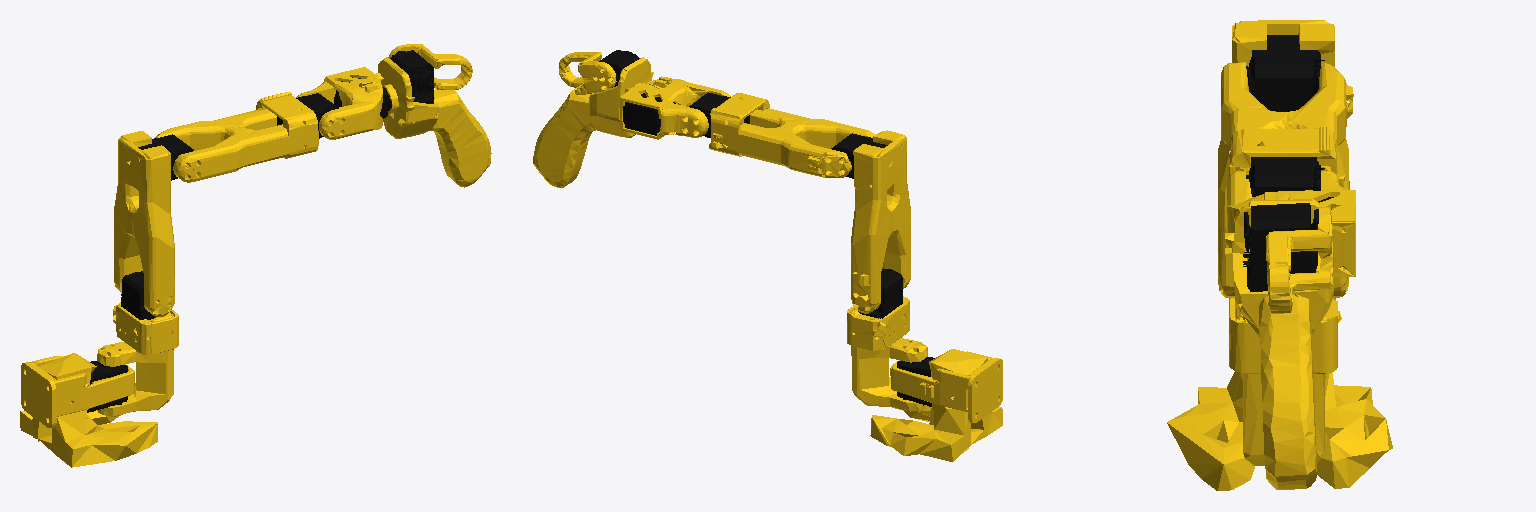
URDF robot description (so101_leader_new_calib):
<?xml version="1.0" encoding="utf-8"?>
<!-- Generated using onshape-to-robot, then hand-adapted for the SO-101 leader gripper -->
<!-- Arm links/joints (base..wrist) are unchanged from so101_new_calib.urdf; only the gripper subtree differs -->
<!-- Trigger zero, travel limits and printed-part inertias are provisional estimates, not measurements: see README.md -->
<robot name="so101_leader_new_calib">
  <!-- Materials -->
  <material name="accent">
    <color rgba="1.0 0.82 0.12 1.0"/>
  </material>
  <material name="sts3215">
    <color rgba="0.1 0.1 0.1 1.0"/>
  </material>
  <!-- Link base -->
  <link name="base_link">
    <inertial>
      <origin xyz="0.0137179 -5.19711e-05 0.0334843" rpy="0 0 0"/>
      <mass value="0.147"/>
      <inertia ixx="0.000114686" ixy="-4.59787e-07" ixz="4.97151e-06" iyy="0.000136117" iyz="9.75275e-08" izz="0.000130364"/>
    </inertial>
    <!-- Part base_motor_holder_so101_v1 -->
    <visual>
      <origin xyz="-0.00636471 -9.94414e-05 -0.0024" rpy="1.5708 -1.67685e-15 1.5708"/>
      <geometry>
        <mesh filename="assets/base_motor_holder_so101_v1.stl"/>
      </geometry>
      <material name="accent"/>
    </visual>
    <collision>
      <origin xyz="-0.00636471 -9.94414e-05 -0.0024" rpy="1.5708 -1.67685e-15 1.5708"/>
      <geometry>
        <mesh filename="assets/base_motor_holder_so101_v1.stl"/>
      </geometry>
    </collision>
    <!-- Part base_so101_v2 -->
    <visual>
      <origin xyz="-0.00636471 -8.97657e-09 -0.0024" rpy="1.5708 -2.78073e-29 1.5708"/>
      <geometry>
        <mesh filename="assets/base_so101_v2.stl"/>
      </geometry>
      <material name="accent"/>
    </visual>
    <collision>
      <origin xyz="-0.00636471 -8.97657e-09 -0.0024" rpy="1.5708 -2.78073e-29 1.5708"/>
      <geometry>
        <mesh filename="assets/base_so101_v2.stl"/>
      </geometry>
    </collision>
    <!-- Part sts3215_03a_v1 -->
    <visual>
      <origin xyz="0.0263353 -8.97657e-09 0.0437" rpy="-8.21148e-16 7.84513e-18 1.249e-15"/>
      <geometry>
        <mesh filename="assets/sts3215_03a_v1.stl"/>
      </geometry>
      <material name="sts3215"/>
    </visual>
    <collision>
      <origin xyz="0.0263353 -8.97657e-09 0.0437" rpy="-8.21148e-16 7.84513e-18 1.249e-15"/>
      <geometry>
        <mesh filename="assets/sts3215_03a_v1.stl"/>
      </geometry>
    </collision>
    <!-- Part waveshare_mounting_plate_so101_v2 -->
    <visual>
      <origin xyz="-0.0309827 -0.000199441 0.0474" rpy="1.5708 -1.35493e-14 1.5708"/>
      <geometry>
        <mesh filename="assets/waveshare_mounting_plate_so101_v2.stl"/>
      </geometry>
      <material name="accent"/>
    </visual>
    <collision>
      <origin xyz="-0.0309827 -0.000199441 0.0474" rpy="1.5708 -1.35493e-14 1.5708"/>
      <geometry>
        <mesh filename="assets/waveshare_mounting_plate_so101_v2.stl"/>
      </geometry>
    </collision>
  </link>
  <!-- Link shoulder -->
  <link name="shoulder_link">
    <inertial>
      <origin xyz="-0.0307604 -1.66727e-05 -0.0252713" rpy="0 0 0"/>
      <mass value="0.100006"/>
      <inertia ixx="8.3759e-05" ixy="7.55525e-08" ixz="-1.16342e-06" iyy="8.10403e-05" iyz="1.54663e-07" izz="2.39783e-05"/>
    </inertial>
    <!-- Part sts3215_03a_v1_2 -->
    <visual>
      <origin xyz="-0.0303992 0.000422241 -0.0417" rpy="1.5708 1.5708 0"/>
      <geometry>
        <mesh filename="assets/sts3215_03a_v1.stl"/>
      </geometry>
      <material name="sts3215"/>
    </visual>
    <collision>
      <origin xyz="-0.0303992 0.000422241 -0.0417" rpy="1.5708 1.5708 0"/>
      <geometry>
        <mesh filename="assets/sts3215_03a_v1.stl"/>
      </geometry>
    </collision>
    <!-- Part motor_holder_so101_base_v1 -->
    <visual>
      <origin xyz="-0.0675992 -0.000177759 0.0158499" rpy="1.5708 -1.5708 0"/>
      <geometry>
        <mesh filename="assets/motor_holder_so101_base_v1.stl"/>
      </geometry>
      <material name="accent"/>
    </visual>
    <collision>
      <origin xyz="-0.0675992 -0.000177759 0.0158499" rpy="1.5708 -1.5708 0"/>
      <geometry>
        <mesh filename="assets/motor_holder_so101_base_v1.stl"/>
      </geometry>
    </collision>
    <!-- Part rotation_pitch_so101_v1 -->
    <visual>
      <origin xyz="0.0122008 2.22413e-05 0.0464" rpy="-1.5708 2.35221e-33 0"/>
      <geometry>
        <mesh filename="assets/rotation_pitch_so101_v1.stl"/>
      </geometry>
      <material name="accent"/>
    </visual>
    <collision>
      <origin xyz="0.0122008 2.22413e-05 0.0464" rpy="-1.5708 2.35221e-33 0"/>
      <geometry>
        <mesh filename="assets/rotation_pitch_so101_v1.stl"/>
      </geometry>
    </collision>
  </link>
  <!-- Link upper_arm -->
  <link name="upper_arm_link">
    <inertial>
      <origin xyz="-0.0898471 -0.00838224 0.0184089" rpy="0 0 0"/>
      <mass value="0.103"/>
      <inertia ixx="4.08002e-05" ixy="-1.97819e-05" ixz="-4.03016e-08" iyy="0.000147318" iyz="8.97326e-09" izz="0.000142487"/>
    </inertial>
    <!-- Part sts3215_03a_v1_3 -->
    <visual>
      <origin xyz="-0.11257 -0.0155 0.0187" rpy="-3.14159 -5.27356e-16 -1.5708"/>
      <geometry>
        <mesh filename="assets/sts3215_03a_v1.stl"/>
      </geometry>
      <material name="sts3215"/>
    </visual>
    <collision>
      <origin xyz="-0.11257 -0.0155 0.0187" rpy="-3.14159 -5.27356e-16 -1.5708"/>
      <geometry>
        <mesh filename="assets/sts3215_03a_v1.stl"/>
      </geometry>
    </collision>
    <!-- Part upper_arm_so101_v1 -->
    <visual>
      <origin xyz="-0.065085 0.012 0.0182" rpy="3.14159 -0 -1.30911e-30"/>
      <geometry>
        <mesh filename="assets/upper_arm_so101_v1.stl"/>
      </geometry>
      <material name="accent"/>
    </visual>
    <collision>
      <origin xyz="-0.065085 0.012 0.0182" rpy="3.14159 -0 -1.30911e-30"/>
      <geometry>
        <mesh filename="assets/upper_arm_so101_v1.stl"/>
      </geometry>
    </collision>
  </link>
  <!-- Link lower_arm -->
  <link name="lower_arm_link">
    <inertial>
      <origin xyz="-0.0980701 0.00324376 0.0182831" rpy="0 0 0"/>
      <mass value="0.104"/>
      <inertia ixx="2.87438e-05" ixy="7.41152e-06" ixz="1.26409e-06" iyy="0.000159844" iyz="-4.90188e-08" izz="0.00014529"/>
    </inertial>
    <!-- Part under_arm_so101_v1 -->
    <visual>
      <origin xyz="-0.0648499 -0.032 0.0182" rpy="3.14159 -0 6.67202e-31"/>
      <geometry>
        <mesh filename="assets/under_arm_so101_v1.stl"/>
      </geometry>
      <material name="accent"/>
    </visual>
    <collision>
      <origin xyz="-0.0648499 -0.032 0.0182" rpy="3.14159 -0 6.67202e-31"/>
      <geometry>
        <mesh filename="assets/under_arm_so101_v1.stl"/>
      </geometry>
    </collision>
    <!-- Part motor_holder_so101_wrist_v1 -->
    <visual>
      <origin xyz="-0.0648499 -0.032 0.018" rpy="-3.14159 -2.55351e-15 -1.83387e-30"/>
      <geometry>
        <mesh filename="assets/motor_holder_so101_wrist_v1.stl"/>
      </geometry>
      <material name="accent"/>
    </visual>
    <collision>
      <origin xyz="-0.0648499 -0.032 0.018" rpy="-3.14159 -2.55351e-15 -1.83387e-30"/>
      <geometry>
        <mesh filename="assets/motor_holder_so101_wrist_v1.stl"/>
      </geometry>
    </collision>
    <!-- Part sts3215_03a_v1_4 -->
    <visual>
      <origin xyz="-0.1224 0.0052 0.0187" rpy="-3.14159 -7.88861e-31 -3.14159"/>
      <geometry>
        <mesh filename="assets/sts3215_03a_v1.stl"/>
      </geometry>
      <material name="sts3215"/>
    </visual>
    <collision>
      <origin xyz="-0.1224 0.0052 0.0187" rpy="-3.14159 -7.88861e-31 -3.14159"/>
      <geometry>
        <mesh filename="assets/sts3215_03a_v1.stl"/>
      </geometry>
    </collision>
  </link>
  <!-- Link wrist -->
  <link name="wrist_link">
    <inertial>
      <origin xyz="-0.000103312 -0.0386143 0.0281156" rpy="0 0 0"/>
      <mass value="0.079"/>
      <inertia ixx="3.68263e-05" ixy="1.7893e-08" ixz="-5.28128e-08" iyy="2.5391e-05" iyz="3.6412e-06" izz="2.1e-05"/>
    </inertial>
    <!-- Part sts3215_03a_no_horn_v1 -->
    <visual>
      <origin xyz="8.32667e-17 -0.0424 0.0306" rpy="1.5708 1.5708 0"/>
      <geometry>
        <mesh filename="assets/sts3215_03a_no_horn_v1.stl"/>
      </geometry>
      <material name="sts3215"/>
    </visual>
    <collision>
      <origin xyz="8.32667e-17 -0.0424 0.0306" rpy="1.5708 1.5708 0"/>
      <geometry>
        <mesh filename="assets/sts3215_03a_no_horn_v1.stl"/>
      </geometry>
    </collision>
    <!-- Part wrist_roll_pitch_so101_v2 -->
    <visual>
      <origin xyz="0 -0.028 0.0181" rpy="-1.5708 -1.5708 0"/>
      <geometry>
        <mesh filename="assets/wrist_roll_pitch_so101_v2.stl"/>
      </geometry>
      <material name="accent"/>
    </visual>
    <collision>
      <origin xyz="0 -0.028 0.0181" rpy="-1.5708 -1.5708 0"/>
      <geometry>
        <mesh filename="assets/wrist_roll_pitch_so101_v2.stl"/>
      </geometry>
    </collision>
  </link>
  <!-- Link gripper -->
  <link name="gripper_link">
    <!-- Wrist and fixed handle share the supplied CAD frame; Rx(pi) aligns it with this link. -->
    <inertial>
      <origin xyz="-0.01463933706 0.0002370558212 -0.03716427729" rpy="0 0 0"/>
      <mass value="0.11759351"/>
      <inertia ixx="7.859176784e-05" ixy="-6.681173168e-07" ixz="-7.050604632e-05" iyy="0.000178854821" iyz="-3.231463563e-07" izz="0.0001218796153"/>
    </inertial>
    <!-- Part sts3215_03a_v1_5 -->
    <visual>
      <origin xyz="0.0077 0.0001 -0.0234" rpy="-1.5708 -5.19179e-17 -1.66533e-16"/>
      <geometry>
        <mesh filename="assets/sts3215_03a_v1.stl"/>
      </geometry>
      <material name="sts3215"/>
    </visual>
    <collision>
      <origin xyz="0.0077 0.0001 -0.0234" rpy="-1.5708 -5.19179e-17 -1.66533e-16"/>
      <geometry>
        <mesh filename="assets/sts3215_03a_v1.stl"/>
      </geometry>
    </collision>
    <visual name="Wrist_Roll_SO101_visual">
      <origin xyz="0 0 0" rpy="3.14159265359 0 0"/>
      <geometry>
        <mesh filename="assets/Wrist_Roll_SO101.stl"/>
      </geometry>
      <material name="accent"/>
    </visual>
    <collision name="Wrist_Roll_SO101_collision">
      <origin xyz="0 0 0" rpy="3.14159265359 0 0"/>
      <geometry>
        <mesh filename="assets/Wrist_Roll_SO101.stl"/>
      </geometry>
    </collision>
    <visual name="Handle_SO101_visual">
      <origin xyz="0 0 0" rpy="3.14159265359 0 0"/>
      <geometry>
        <mesh filename="assets/Handle_SO101.stl"/>
      </geometry>
      <material name="accent"/>
    </visual>
    <collision name="Handle_SO101_collision">
      <origin xyz="0 0 0" rpy="3.14159265359 0 0"/>
      <geometry>
        <mesh filename="assets/Handle_SO101.stl"/>
      </geometry>
    </collision>
  </link>
  <!-- Gripper frame (dummy link + fixed joint) -->
  <link name="gripper_frame_link">
    <!-- Massless compatibility frame: original follower TCP, not a leader fingertip or grasp point. -->
  </link>
  <joint name="gripper_frame_joint" type="fixed">
    <origin xyz="-0.0079 -0.000218121 -0.0981274" rpy="0 3.14159 0"/>
    <parent link="gripper_link"/>
    <child link="gripper_frame_link"/>
  </joint>
  <!-- Link leader trigger -->
  <link name="trigger_link">
    <!-- Trigger flipped onto output-horn face. 140-degree mesh yaw is a provisional near-closed reference, not measured encoder calibration. -->
    <inertial>
      <origin xyz="-0.005619805153 -0.02459451886 0.009867440284" rpy="0 0 0"/>
      <mass value="0.006482134179"/>
      <inertia ixx="2.350989358e-06" ixy="-3.4844179e-07" ixz="1.776125872e-07" iyy="1.421821883e-06" iyz="8.591511074e-07" izz="2.203508731e-06"/>
    </inertial>
    <visual name="Trigger_SO101_visual">
      <origin xyz="0 0 0" rpy="3.14159265359 0 2.44346095279"/>
      <geometry>
        <mesh filename="assets/Trigger_SO101.stl"/>
      </geometry>
      <material name="accent"/>
    </visual>
    <collision name="Trigger_SO101_collision">
      <origin xyz="0 0 0" rpy="3.14159265359 0 2.44346095279"/>
      <geometry>
        <mesh filename="assets/Trigger_SO101.stl"/>
      </geometry>
    </collision>
  </link>
  <!-- Joint from gripper to leader trigger -->
  <joint name="gripper" type="revolute">
    <!-- Provisional 0..45 degree trigger travel; positive opens. Retains original servo-axis frame. Verify zero/range on your leader. -->
    <origin xyz="0.0202 0.0188 -0.0234" rpy="1.5708 -5.24284e-08 -1.41553e-15"/>
    <parent link="gripper_link"/>
    <child link="trigger_link"/>
    <axis xyz="0 0 1"/>
    <limit effort="10" velocity="10" lower="0" upper="0.785398163397"/>
  </joint>
  <transmission name="gripper_trans">
    <type>transmission_interface/SimpleTransmission</type>
    <joint name="gripper">
      <hardwareInterface>hardware_interface/PositionJointInterface</hardwareInterface>
    </joint>
    <actuator name="motor6">
      <hardwareInterface>hardware_interface/PositionJointInterface</hardwareInterface>
      <mechanicalReduction>1</mechanicalReduction>
    </actuator>
  </transmission>
  <!-- Joint from wrist to gripper -->
  <joint name="wrist_roll" type="revolute">
    <origin xyz="5.55112e-17 -0.0611 0.0181" rpy="1.5708 0.0486795 3.14159"/>
    <parent link="wrist_link"/>
    <child link="gripper_link"/>
    <axis xyz="0 0 1"/>
    <limit effort="10" velocity="10" lower="-2.74385" upper="2.84121"/>
  </joint>
  <transmission name="wrist_roll_trans">
    <type>transmission_interface/SimpleTransmission</type>
    <joint name="wrist_roll">
      <hardwareInterface>hardware_interface/PositionJointInterface</hardwareInterface>
    </joint>
    <actuator name="motor5">
      <hardwareInterface>hardware_interface/PositionJointInterface</hardwareInterface>
      <mechanicalReduction>1</mechanicalReduction>
    </actuator>
  </transmission>
  <!-- Joint from lower_arm to wrist -->
  <joint name="wrist_flex" type="revolute">
    <origin xyz="-0.1349 0.0052 3.62355e-17" rpy="4.02456e-15 8.67362e-16 -1.5708"/>
    <parent link="lower_arm_link"/>
    <child link="wrist_link"/>
    <axis xyz="0 0 1"/>
    <limit effort="10" velocity="10" lower="-1.65806" upper="1.65806"/>
  </joint>
  <transmission name="wrist_flex_trans">
    <type>transmission_interface/SimpleTransmission</type>
    <joint name="wrist_flex">
      <hardwareInterface>hardware_interface/PositionJointInterface</hardwareInterface>
    </joint>
    <actuator name="motor4">
      <hardwareInterface>hardware_interface/PositionJointInterface</hardwareInterface>
      <mechanicalReduction>1</mechanicalReduction>
    </actuator>
  </transmission>
  <!-- Joint from upper_arm to lower_arm -->
  <!-- Note: 5-degree calibration offset applied to joint limits -->
  <joint name="elbow_flex" type="revolute">
    <origin xyz="-0.11257 -0.028 1.73763e-16" rpy="-3.63608e-16 8.74301e-16 1.5708"/>
    <parent link="upper_arm_link"/>
    <child link="lower_arm_link"/>
    <axis xyz="0 0 1"/>
    <limit effort="10" velocity="10" lower="-1.69" upper="1.69"/>
  </joint>
  <transmission name="elbow_flex_trans">
    <type>transmission_interface/SimpleTransmission</type>
    <joint name="elbow_flex">
      <hardwareInterface>hardware_interface/PositionJointInterface</hardwareInterface>
    </joint>
    <actuator name="motor3">
      <hardwareInterface>hardware_interface/PositionJointInterface</hardwareInterface>
      <mechanicalReduction>1</mechanicalReduction>
    </actuator>
  </transmission>
  <!-- Joint from shoulder to upper_arm -->
  <joint name="shoulder_lift" type="revolute">
    <origin xyz="-0.0303992 -0.0182778 -0.0542" rpy="-1.5708 -1.5708 0"/>
    <parent link="shoulder_link"/>
    <child link="upper_arm_link"/>
    <axis xyz="0 0 1"/>
    <limit effort="10" velocity="10" lower="-1.74533" upper="1.74533"/>
  </joint>
  <transmission name="shoulder_lift_trans">
    <type>transmission_interface/SimpleTransmission</type>
    <joint name="shoulder_lift">
      <hardwareInterface>hardware_interface/PositionJointInterface</hardwareInterface>
    </joint>
    <actuator name="motor2">
      <hardwareInterface>hardware_interface/PositionJointInterface</hardwareInterface>
      <mechanicalReduction>1</mechanicalReduction>
    </actuator>
  </transmission>
  <!-- Joint from base to shoulder -->
  <joint name="shoulder_pan" type="revolute">
    <origin xyz="0.0388353 -8.97657e-09 0.0624" rpy="3.14159 4.18253e-17 -3.14159"/>
    <parent link="base_link"/>
    <child link="shoulder_link"/>
    <axis xyz="0 0 1"/>
    <limit effort="10" velocity="10" lower="-1.91986" upper="1.91986"/>
  </joint>
  <transmission name="shoulder_pan_trans">
    <type>transmission_interface/SimpleTransmission</type>
    <joint name="shoulder_pan">
      <hardwareInterface>hardware_interface/PositionJointInterface</hardwareInterface>
    </joint>
    <actuator name="motor1">
      <hardwareInterface>hardware_interface/PositionJointInterface</hardwareInterface>
      <mechanicalReduction>1</mechanicalReduction>
    </actuator>
  </transmission>
  <link name="handle_frame_link"/>
  <joint name="handle_frame_joint" type="fixed">
    <parent link="gripper_link"/>
    <child link="handle_frame_link"/>
    <origin xyz="-0.04883983673 4.24709659e-07 -0.06746695884" rpy="0 3.14159265359 0"/>
  </joint>
</robot>

--- What the picture shows (computed from the rendered views, not written in the file) ---
The picture shows the robot from 3 angles, left to right: view 1: azimuth 30°, elevation 25°; view 2: azimuth 150°, elevation 25°; view 3: azimuth 270°, elevation 25°; orthographic projection.
Model so101_leader_new_calib with 9 links and 8 joints (6 revolute, 2 fixed), rooted at base_link, posed all joints at 0.
Visible links, largest first — view 1: base_link, upper_arm_link, lower_arm_link, gripper_link, shoulder_link, wrist_link, trigger_link; view 2: base_link, upper_arm_link, lower_arm_link, gripper_link, shoulder_link, wrist_link, trigger_link; view 3: gripper_link, lower_arm_link, base_link, upper_arm_link, shoulder_link, trigger_link, wrist_link.
Boxes of the visible links, x1,y1,x2,y2 form: base_link: (20, 353, 157, 467); upper_arm_link: (114, 131, 193, 316); lower_arm_link: (155, 92, 338, 182); gripper_link: (378, 50, 491, 187); shoulder_link: (97, 271, 178, 416); wrist_link: (296, 67, 391, 139); trigger_link: (388, 44, 472, 89); base_link: (870, 349, 1002, 461); upper_arm_link: (831, 130, 910, 313); lower_arm_link: (689, 92, 874, 177); gripper_link: (533, 50, 653, 187); shoulder_link: (847, 269, 927, 411); wrist_link: (620, 76, 730, 139); trigger_link: (559, 52, 616, 94); gripper_link: (1225, 199, 1333, 489); lower_arm_link: (1221, 62, 1353, 196); base_link: (1167, 298, 1392, 490); upper_arm_link: (1218, 20, 1349, 297); shoulder_link: (1229, 298, 1341, 465); trigger_link: (1266, 207, 1333, 313); wrist_link: (1227, 171, 1355, 276).
Size in the robot's own frame: 0.4204 by 0.1095 by 0.27 metres.
Meshes: 14 distinct files referenced, 18 mesh visuals loaded (14 binary STL).
